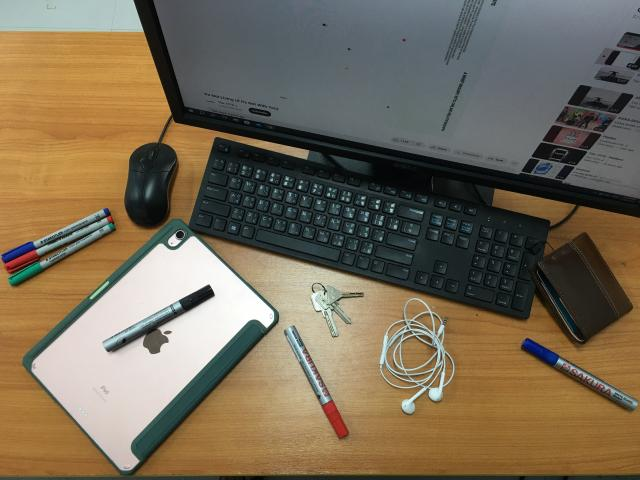Keys: (303, 274, 366, 341)
Mouse: (124, 142, 180, 230)
Pen: (0, 209, 116, 288), (521, 339, 640, 413), (100, 285, 217, 354), (286, 326, 350, 439)
Wallet: (535, 235, 632, 347)
wire: (380, 309, 456, 414)
